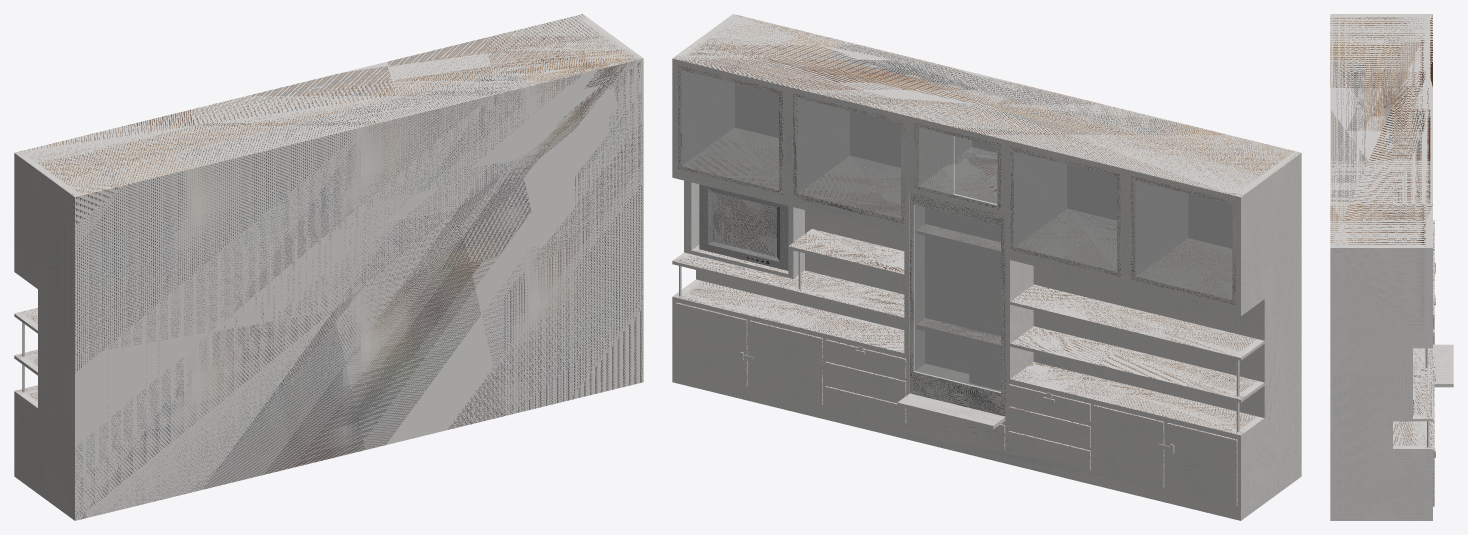
3 renders of one model, left to right at view 1: azimuth 30°, elevation 25°; view 2: azimuth 150°, elevation 25°; view 3: azimuth 270°, elevation 25°, orthographic. The views are drawn at different scales.
Visible parts, largest first — view 1: mesh22_mesh22-geometry; view 2: mesh22_mesh22-geometry, mesh3_mesh3-geometry, mesh24_mesh24-geometry, mesh25_mesh25-geometry, mesh23_mesh23-geometry; view 3: mesh22_mesh22-geometry.
Part boxes in pixels (<box>): mesh22_mesh22-geometry: <box>14,14,643,520</box>; mesh22_mesh22-geometry: <box>672,14,1301,520</box>; mesh3_mesh3-geometry: <box>699,184,788,270</box>; mesh24_mesh24-geometry: <box>825,361,906,401</box>; mesh25_mesh25-geometry: <box>825,386,906,425</box>; mesh23_mesh23-geometry: <box>825,339,906,377</box>; mesh22_mesh22-geometry: <box>1330,14,1453,520</box>.
Size of the model in its own units: 0.8622 by 0.4688 by 0.1918.
